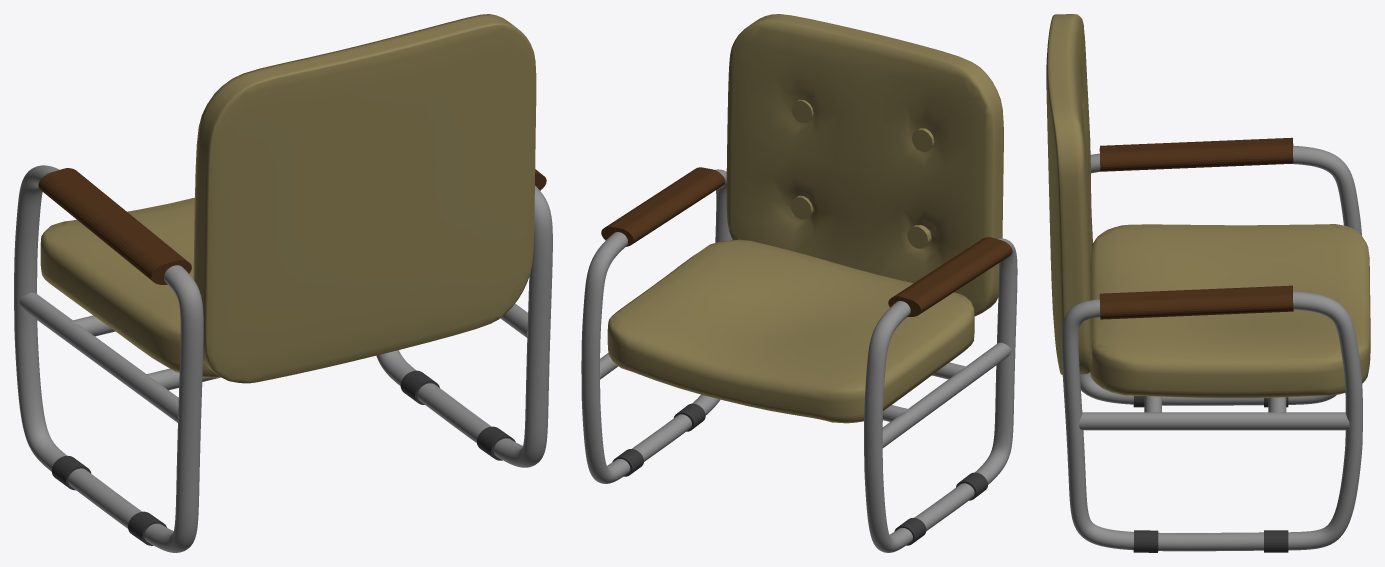
Rendered from WaitingRoomChair_Lin.fbx.
The picture shows the model from 3 angles, left to right: view 1: azimuth 30°, elevation 25°; view 2: azimuth 150°, elevation 25°; view 3: azimuth 270°, elevation 25°; orthographic projection. The views are drawn at different scales.
Visible parts, largest first — view 1: seat.001, NurbsPath, seat, NurbsPath.002, Cylinder.006, NurbsPath.001; view 2: seat.001, seat, NurbsPath, NurbsPath.002, Cylinder.006, Cylinder.009, NurbsPath.001; view 3: seat, seat.001, NurbsPath.002, Cylinder.006, Cylinder.009, NurbsPath.003, NurbsPath, Cylinder.008, Cylinder.007.
Boxes of the visible parts, x1,y1,x2,y2 form: seat.001: [193, 14, 536, 383]; NurbsPath: [14, 165, 203, 552]; seat: [40, 197, 220, 378]; NurbsPath.002: [376, 185, 552, 467]; Cylinder.006: [38, 168, 191, 284]; NurbsPath.001: [19, 292, 178, 422]; seat.001: [726, 14, 1003, 316]; seat: [607, 239, 974, 423]; NurbsPath: [864, 238, 1017, 552]; NurbsPath.002: [581, 169, 732, 483]; Cylinder.006: [888, 237, 1012, 316]; Cylinder.009: [601, 167, 725, 246]; NurbsPath.001: [882, 342, 1010, 447]; seat: [1090, 224, 1370, 398]; seat.001: [1046, 14, 1092, 374]; NurbsPath.002: [1061, 291, 1362, 551]; Cylinder.006: [1099, 137, 1293, 171]; Cylinder.009: [1099, 285, 1293, 319]; NurbsPath.003: [1079, 412, 1349, 430]; NurbsPath: [1080, 145, 1361, 405]; Cylinder.008: [1133, 530, 1158, 552]; Cylinder.007: [1264, 530, 1288, 552].
Bounding box in the file's own units: 826 × 973 × 687.
